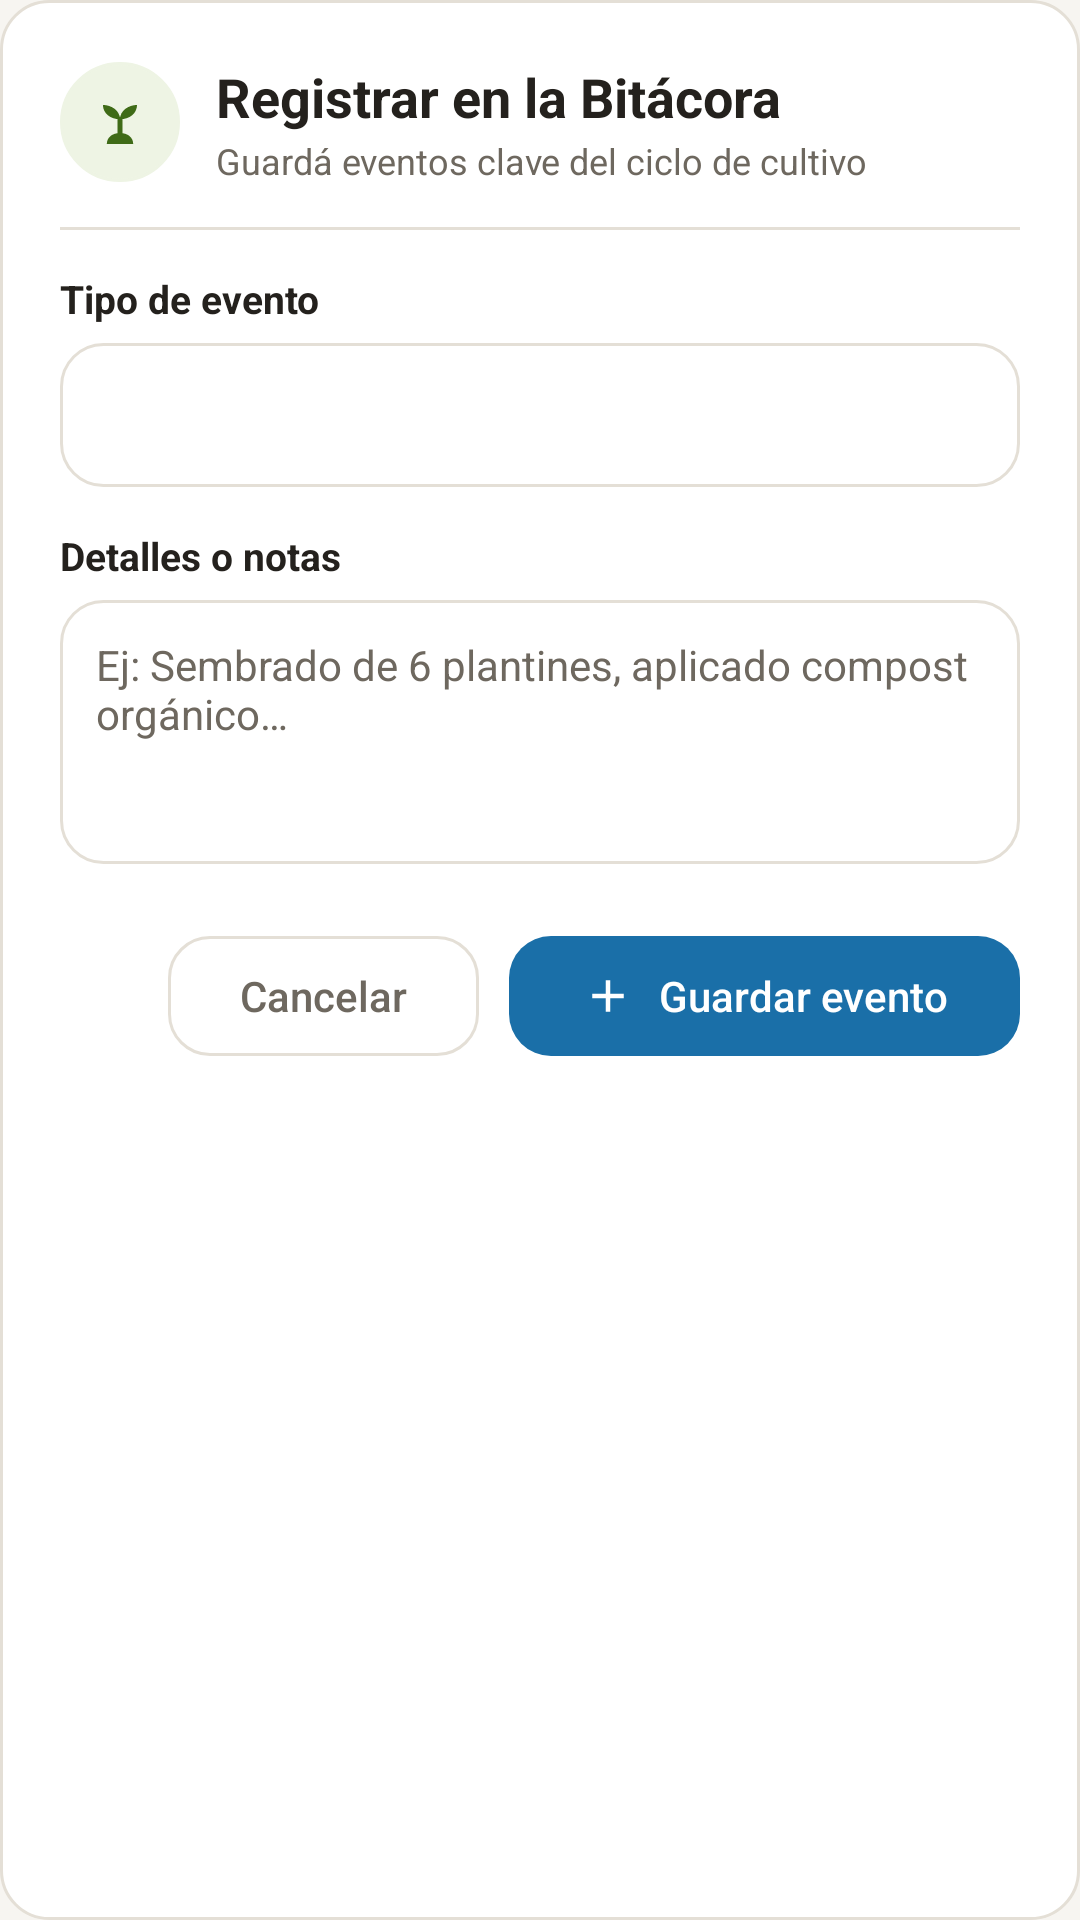

Named icons in this screenshot (1080px x 1920px) and their centers, (x,y):
brote: (120,124)
